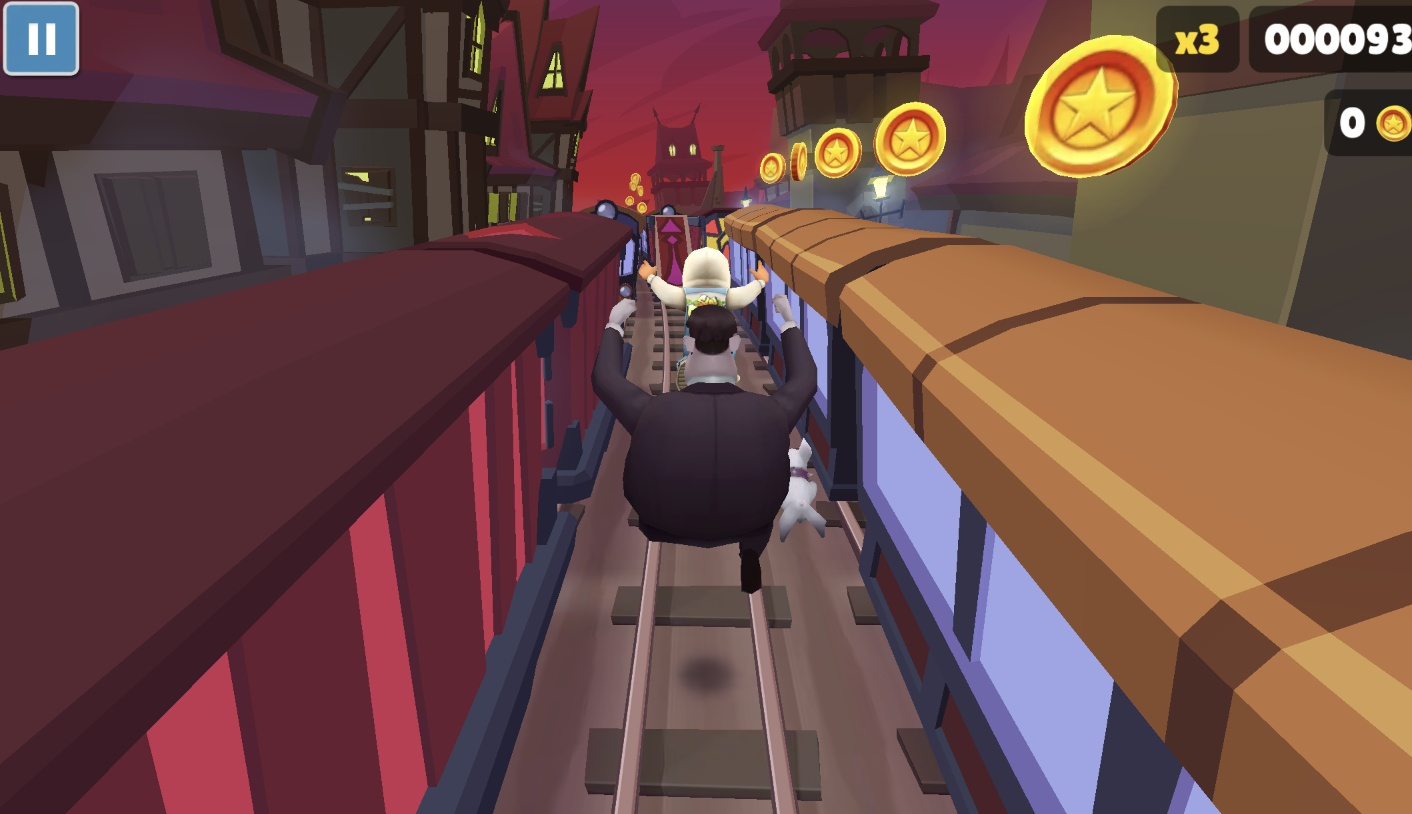train: (723, 204, 1412, 814), (0, 212, 630, 814), (582, 199, 648, 328), (643, 205, 701, 303), (697, 212, 741, 288)
